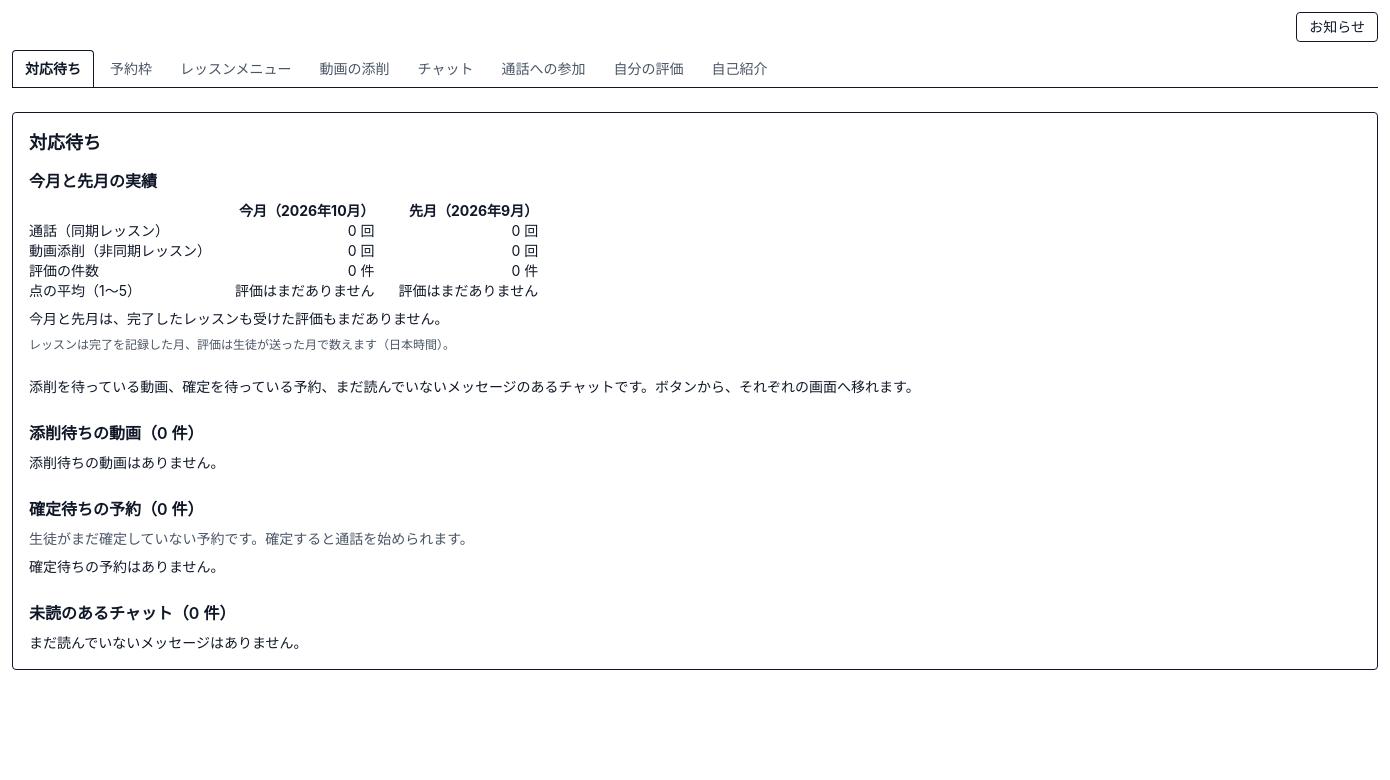
Test: コーチの画面の「予約枠」 › 予約枠のタブでメニューを選んで枠を公開し、一覧にメニューの名前が出る
Click the tab "予約枠".
click(131, 68)  # box [98, 50, 164, 87]
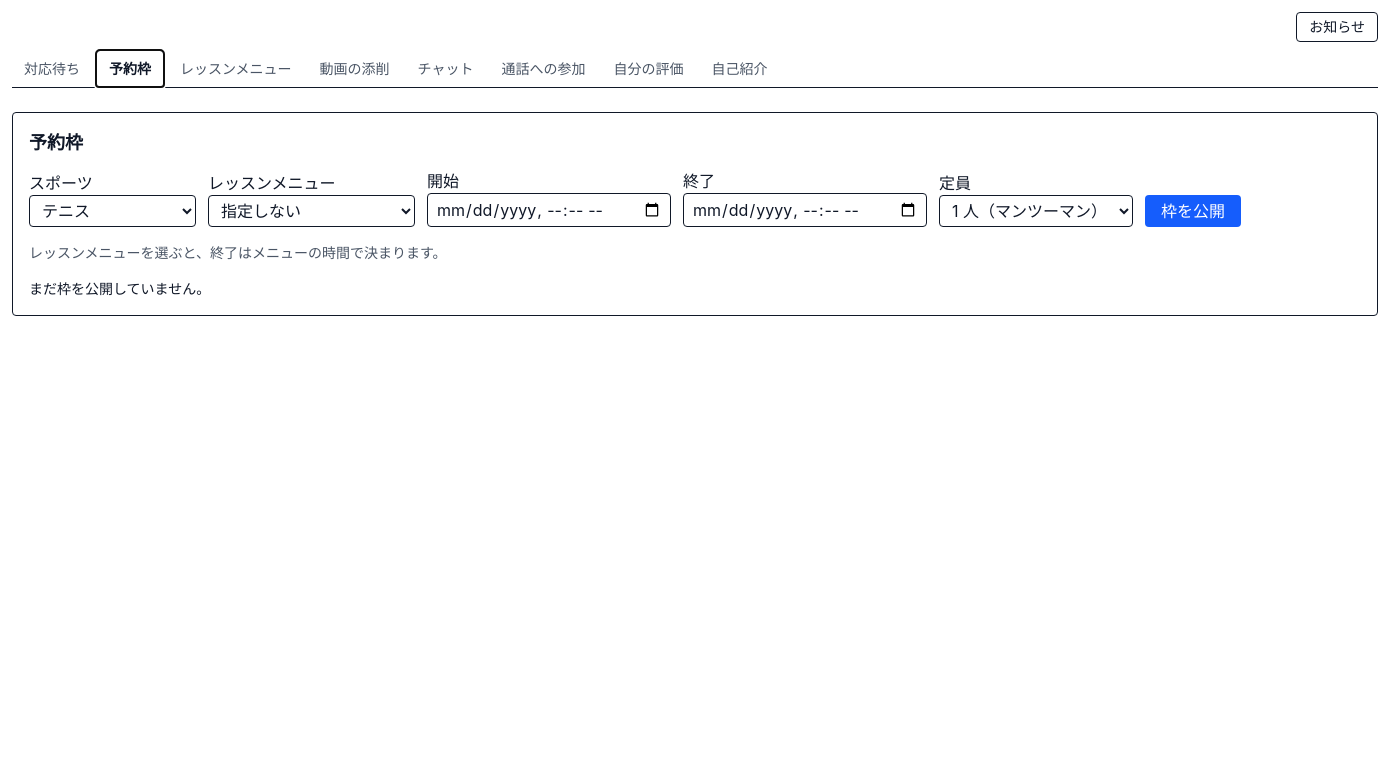
Select "フォーム改善（60 分）" in the dropdown labelled "レッスンメニュー" at (312, 211), box [208, 195, 415, 227]
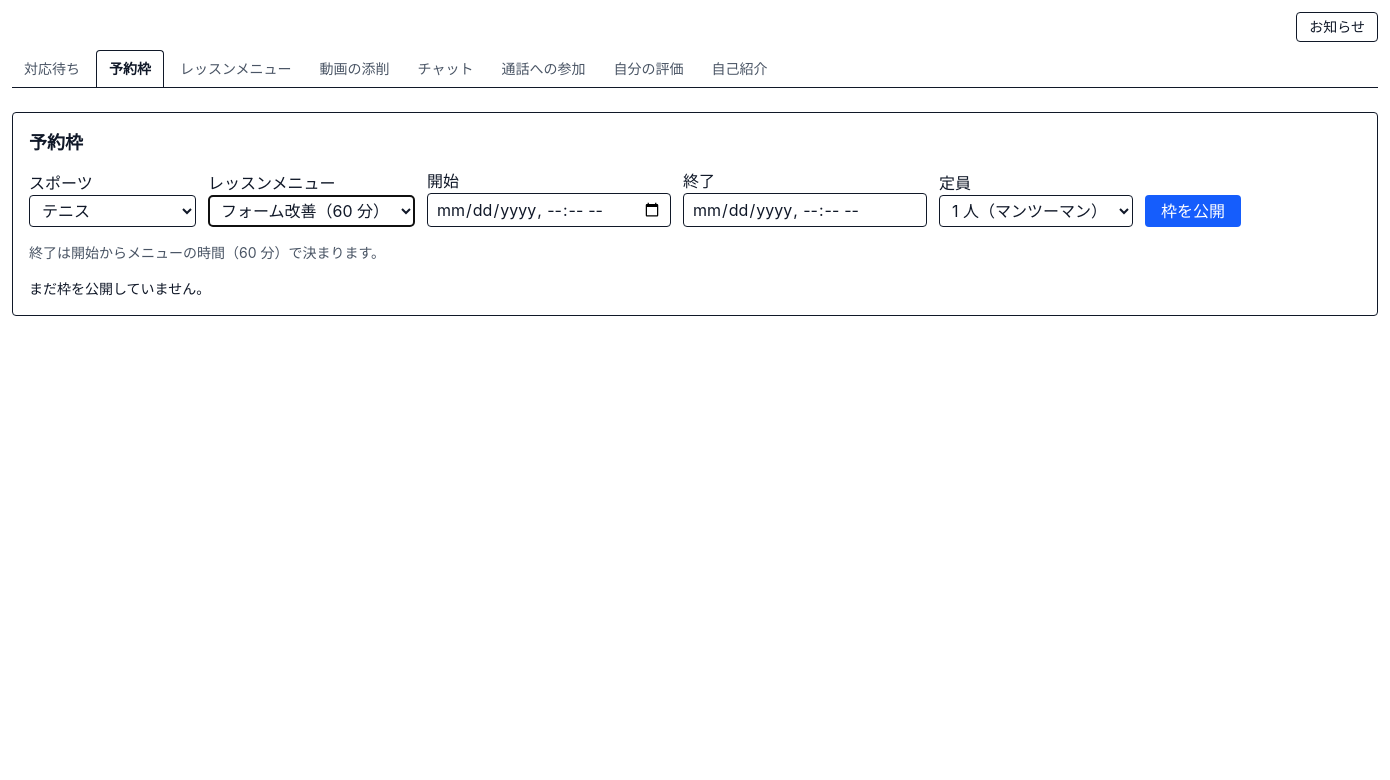
Type "2026-11-01T10:00" into the field labelled "開始".
click(549, 210); type("2026-11-01T10:00")  # box [427, 193, 671, 227]
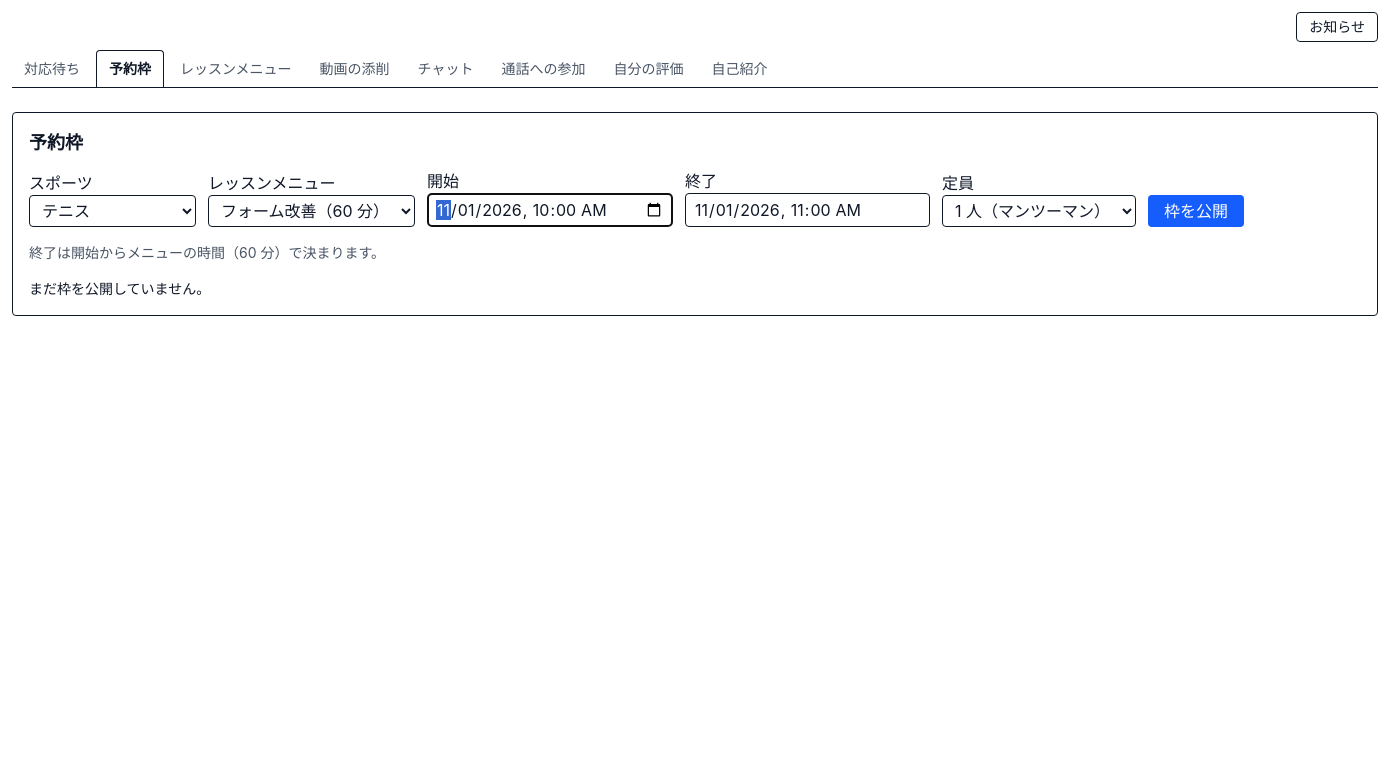
Click the button "枠を公開".
click(1196, 211)  # box [1148, 195, 1244, 227]
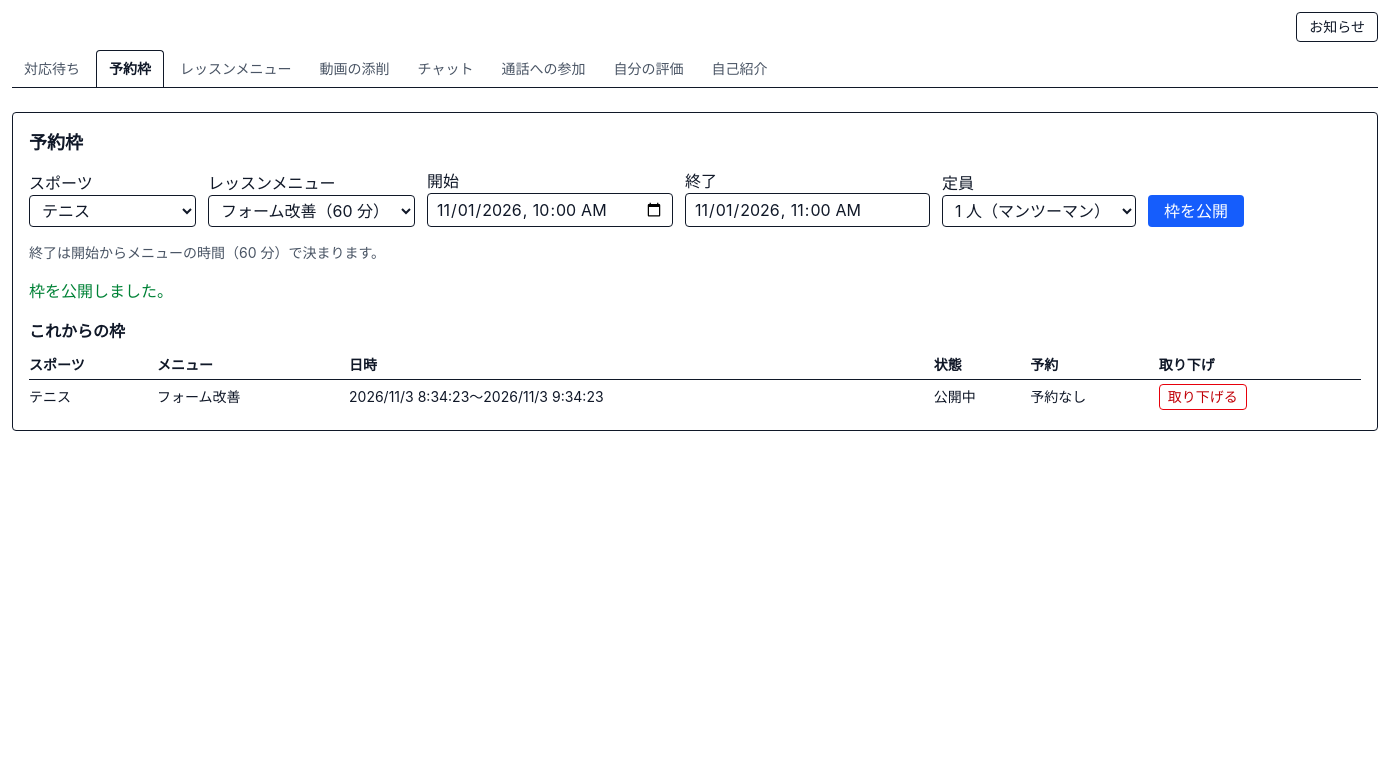
Check: the row "テニス" shows "フォーム改善", box [157, 388, 241, 405]
